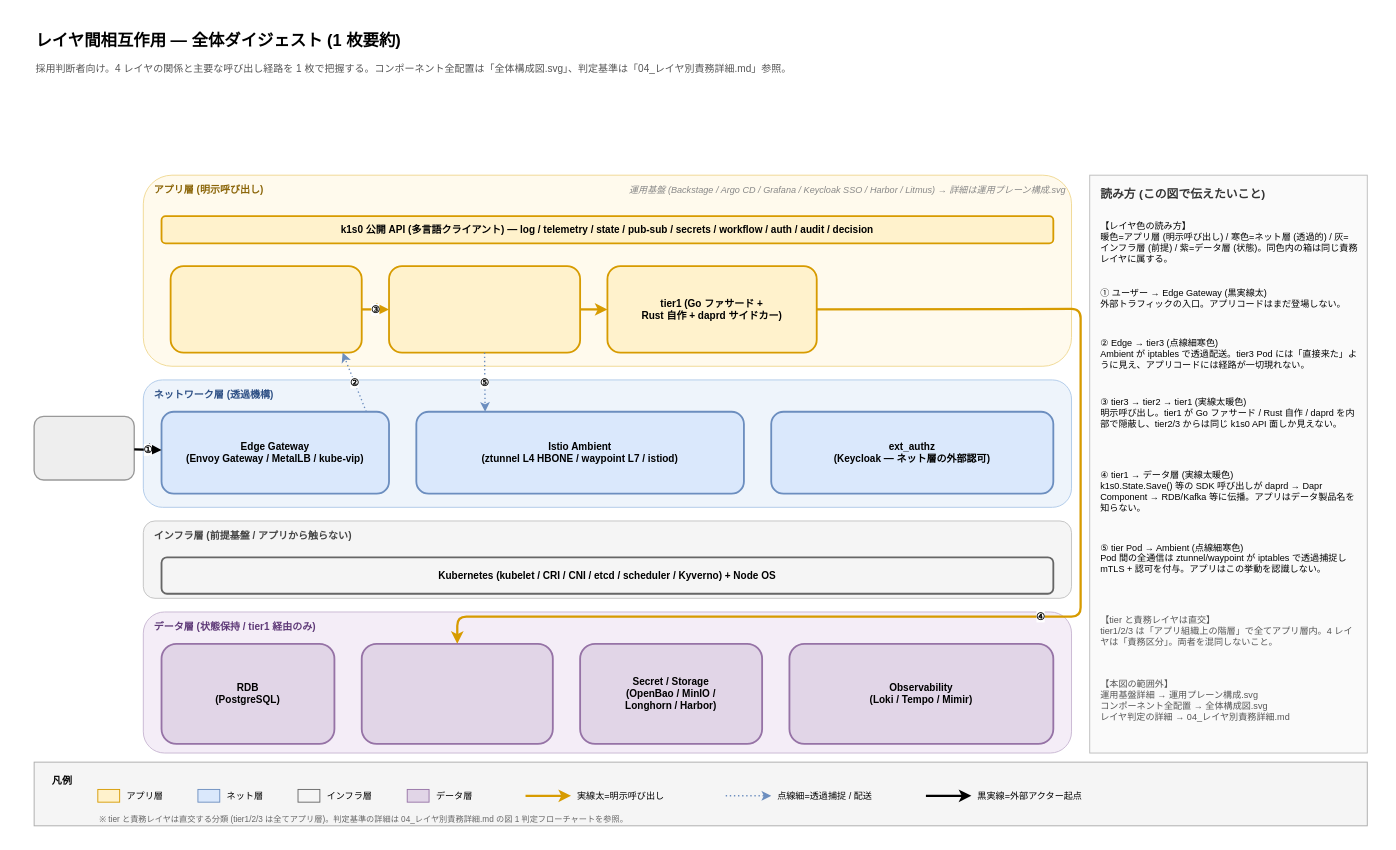
The diagram is 1396 pixels wide and 850 high, and some of its shapes have lost their labels. The shapes that lost their labels are listed below. From the top down, each one's centre as x and y in pixels, then its label:
At point 265,309: "tier3: 業務アプリ (C# / Go / MAUI / React)".
At point 484,309: "tier2: ドメインサービス (C# / Go)".
At point 83,447: "ユーザー (外部)".
At point 456,693: "Messaging (Kafka / Valkey)".
